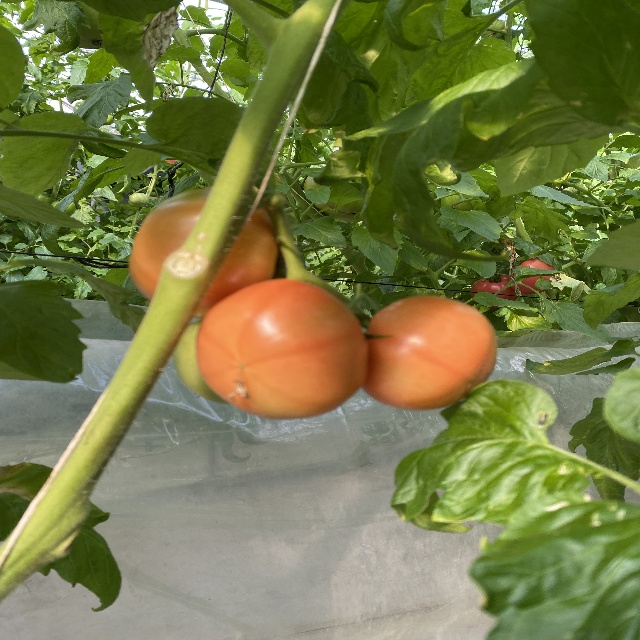b_fully_ripened: (509, 257, 556, 295), (470, 274, 521, 307)
b_green: (174, 321, 232, 404)
b_half_ripened: (196, 278, 370, 420), (128, 189, 278, 317), (363, 295, 498, 411)
